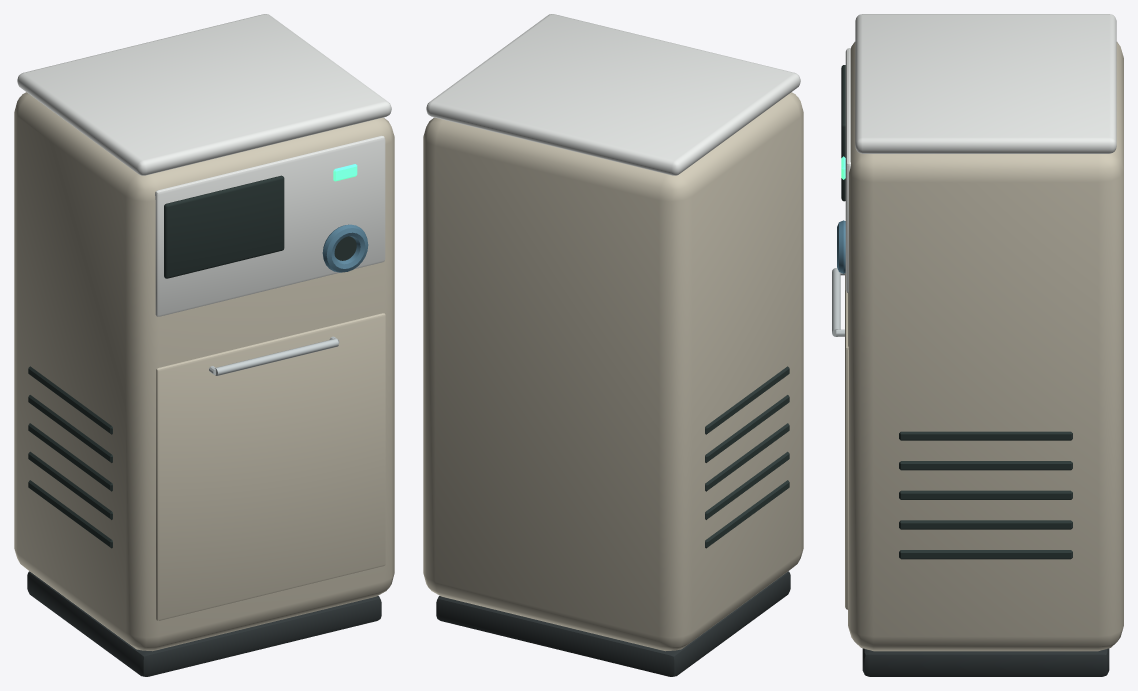
The model's file is sc-smoke-evacuator.glb.
The picture shows the model from 3 angles, left to right: view 1: azimuth 30°, elevation 25°; view 2: azimuth 150°, elevation 25°; view 3: azimuth 270°, elevation 25°; orthographic projection. The views are drawn at different scales.
Parts seen in each view (by area): view 1: sc-smoke-evacuator; view 2: sc-smoke-evacuator; view 3: sc-smoke-evacuator.
Part boxes in pixels (box(x1,y1,x2,y2)): sc-smoke-evacuator: box(14, 14, 394, 676); sc-smoke-evacuator: box(423, 14, 803, 676); sc-smoke-evacuator: box(832, 14, 1123, 676).
Size of the model in its own units: 0.448 by 0.824 by 0.402.
